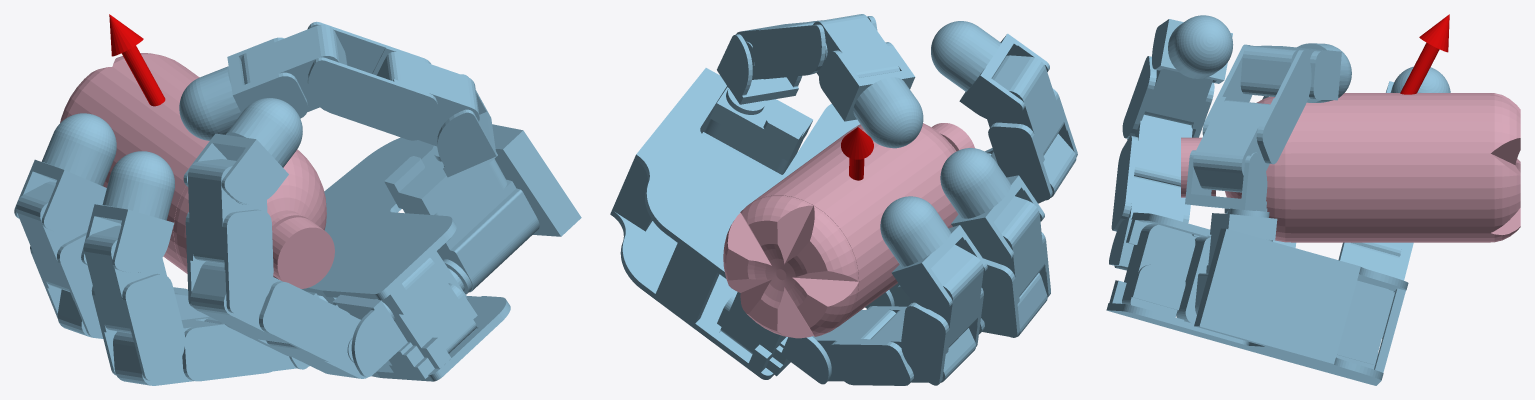
The picture shows the model from 3 angles, left to right: view 1: azimuth 30°, elevation 25°; view 2: azimuth 150°, elevation 25°; view 3: azimuth 270°, elevation 25°; orthographic projection. The views are drawn at different scales.
Visible parts, largest first — view 1: world, water_bottle.stl; view 2: world, water_bottle.stl; view 3: world, water_bottle.stl.
Boxes of the visible parts, bbox=[...] form: world: bbox=[14, 14, 581, 385]; water_bottle.stl: bbox=[60, 53, 334, 288]; world: bbox=[610, 14, 1077, 385]; water_bottle.stl: bbox=[723, 123, 974, 338]; world: bbox=[1106, 14, 1450, 385]; water_bottle.stl: bbox=[1181, 93, 1520, 242].
Bounding box in the file's own units: 0.184 × 0.1455 × 0.1665.
